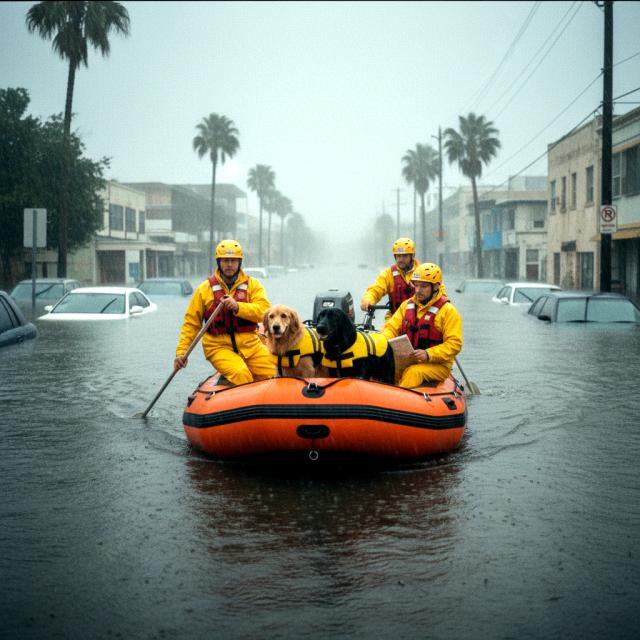dog: (311, 299, 400, 394), (250, 302, 334, 385)
rescuer: (175, 233, 283, 410), (388, 256, 464, 399), (362, 224, 432, 322)
